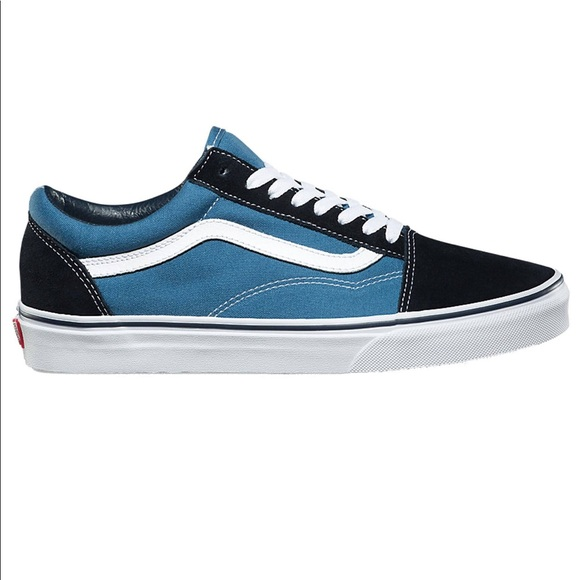Vans Old Skool Blue: (14, 113, 577, 404)
